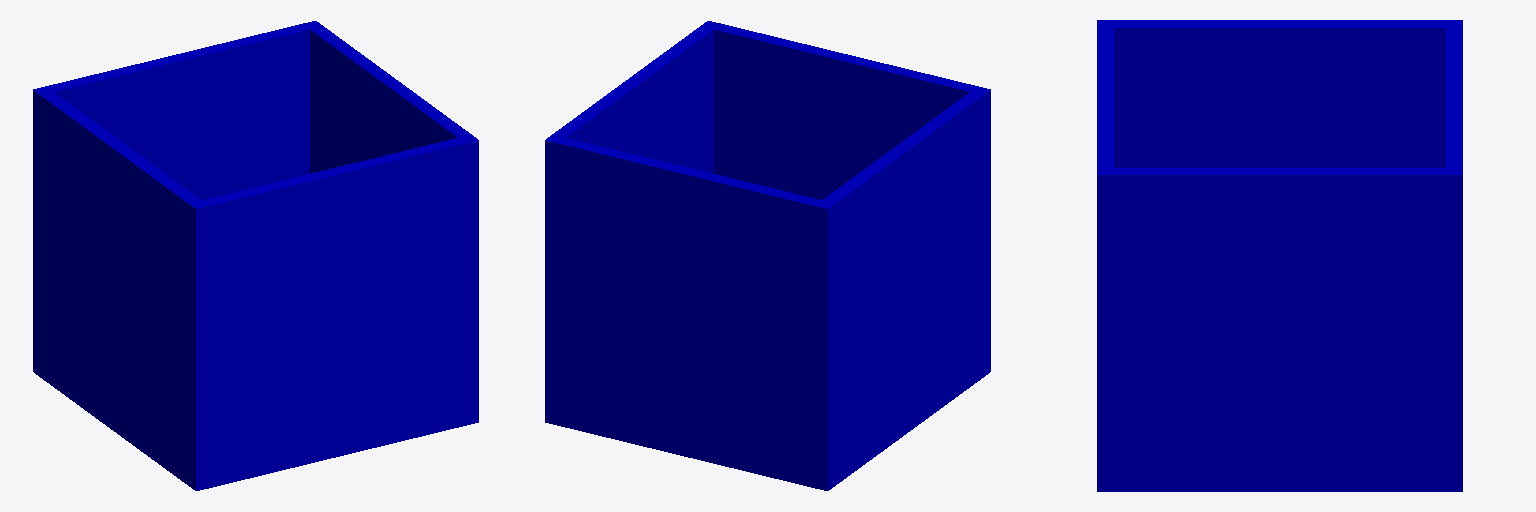
robot.urdf — box:
<?xml version="1.0" encoding="utf-8"?>
<!-- =================================================================================== -->
<!-- |    This document was autogenerated by xacro from basket.urdf.xacro              | -->
<!-- |    EDITING THIS FILE BY HAND IS NOT RECOMMENDED                                 | -->
<!-- =================================================================================== -->
<robot name="box">
  <!-- This creates an open box, i.e. 5-sided box with open side facing up. -->
  <!-- ======================================================================================= -->
  <link name="box_base">
    <inertial>
      <origin rpy="0 0 0" xyz="0 0 0"/>
      <mass value="1"/>
      <inertia ixx="0.00301666666667" ixy="0.0" ixz="0.0" iyy="0.00301666666667" iyz="0.0" izz="0.00601666666667"/>
    </inertial>
    <visual>
      <origin rpy="0 0 0" xyz="0 0 0"/>
      <geometry>
        <box size="0.19 0.19 0.01"/>
      </geometry>
      <material name="blue">
        <color rgba="0 0 0.8 1"/>
      </material>
    </visual>
    <collision>
      <origin rpy="0 0 0" xyz="0 0 0"/>
      <geometry>
        <box size="0.19 0.19 0.01"/>
      </geometry>
    </collision>
  </link>
  <link name="box_left_wall">
    <inertial>
      <origin rpy="0 0 0" xyz="0 0 0"/>
      <mass value="1"/>
      <inertia ixx="0.00334166666667" ixy="0.0" ixz="0.0" iyy="0.00700833333333" iyz="0.0" izz="0.00368333333333"/>
    </inertial>
    <visual>
      <origin rpy="0 0 0" xyz="0 0 0"/>
      <geometry>
        <box size="0.21 0.01 0.2"/>
      </geometry>
      <material name="blue">
        <color rgba="0 0 0.8 1"/>
      </material>
    </visual>
    <collision>
      <origin rpy="0 0 0" xyz="0 0 0"/>
      <geometry>
        <box size="0.21 0.01 0.2"/>
      </geometry>
    </collision>
  </link>
  <joint name="base_to_left_wall" type="fixed">
    <origin rpy="0 0 0" xyz="0 -0.1 0.095"/>
    <parent link="box_base"/>
    <child link="box_left_wall"/>
  </joint>
  <link name="box_right_wall">
    <inertial>
      <origin rpy="0 0 0" xyz="0 0 0"/>
      <mass value="1"/>
      <inertia ixx="0.00334166666667" ixy="0.0" ixz="0.0" iyy="0.00700833333333" iyz="0.0" izz="0.00368333333333"/>
    </inertial>
    <visual>
      <origin rpy="0 0 0" xyz="0 0 0"/>
      <geometry>
        <box size="0.21 0.01 0.2"/>
      </geometry>
      <material name="blue">
        <color rgba="0 0 0.8 1"/>
      </material>
    </visual>
    <collision>
      <origin rpy="0 0 0" xyz="0 0 0"/>
      <geometry>
        <box size="0.21 0.01 0.2"/>
      </geometry>
    </collision>
  </link>
  <joint name="base_to_right_wall" type="fixed">
    <origin rpy="0 0 0" xyz="0 0.1 0.095"/>
    <parent link="box_base"/>
    <child link="box_right_wall"/>
  </joint>
  <link name="box_back_wall">
    <inertial>
      <origin rpy="0 0 0" xyz="0 0 0"/>
      <mass value="1"/>
      <inertia ixx="0.00634166666667" ixy="0.0" ixz="0.0" iyy="0.00334166666667" iyz="0.0" izz="0.00301666666667"/>
    </inertial>
    <visual>
      <origin rpy="0 0 0" xyz="0 0 0"/>
      <geometry>
        <box size="0.01 0.19 0.2"/>
      </geometry>
      <material name="blue">
        <color rgba="0 0 0.8 1"/>
      </material>
    </visual>
    <collision>
      <origin rpy="0 0 0" xyz="0 0 0"/>
      <geometry>
        <box size="0.01 0.19 0.2"/>
      </geometry>
    </collision>
  </link>
  <joint name="base_to_back_wall" type="fixed">
    <origin rpy="0 0 0" xyz="-0.1 0 0.095"/>
    <parent link="box_base"/>
    <child link="box_back_wall"/>
  </joint>
  <link name="box_front_wall">
    <inertial>
      <origin rpy="0 0 0" xyz="0 0 0"/>
      <mass value="1"/>
      <inertia ixx="0.00634166666667" ixy="0.0" ixz="0.0" iyy="0.00334166666667" iyz="0.0" izz="0.00301666666667"/>
    </inertial>
    <visual>
      <origin rpy="0 0 0" xyz="0 0 0"/>
      <geometry>
        <box size="0.01 0.19 0.2"/>
      </geometry>
      <material name="blue">
        <color rgba="0 0 0.8 1"/>
      </material>
    </visual>
    <collision>
      <origin rpy="0 0 0" xyz="0 0 0"/>
      <geometry>
        <box size="0.01 0.19 0.2"/>
      </geometry>
    </collision>
  </link>
  <joint name="base_to_front_wall" type="fixed">
    <origin rpy="0 0 0" xyz="0.1 0 0.095"/>
    <parent link="box_base"/>
    <child link="box_front_wall"/>
  </joint>
</robot>

--- Facts derived from the render (not from the file) ---
Views: 3 orthographic renders of the robot side by side, from view 1: azimuth 30°, elevation 25°; view 2: azimuth 150°, elevation 25°; view 3: azimuth 270°, elevation 25°.
Robot: box — 5 links, 4 joints (4 fixed); root link box_base; default pose: all joints at 0.
Visible links, largest first — view 1: box_left_wall, box_back_wall, box_right_wall, box_front_wall; view 2: box_right_wall, box_back_wall, box_left_wall, box_front_wall; view 3: box_front_wall, box_back_wall, box_left_wall, box_right_wall.
Boxes of the visible links, <box> form: box_left_wall: <box>188,134,478,490</box>; box_back_wall: <box>40,92,200,484</box>; box_right_wall: <box>33,21,322,376</box>; box_front_wall: <box>310,26,470,173</box>; box_right_wall: <box>545,134,835,490</box>; box_back_wall: <box>823,92,983,484</box>; box_left_wall: <box>701,21,990,376</box>; box_front_wall: <box>553,26,713,173</box>; box_front_wall: <box>1114,168,1445,491</box>; box_back_wall: <box>1114,20,1445,167</box>; box_left_wall: <box>1097,20,1113,491</box>; box_right_wall: <box>1446,20,1462,491</box>.
Size in the robot's own frame: 0.21 by 0.21 by 0.2 metres.
Geometry: primitives only (box / cylinder / sphere), no mesh files.